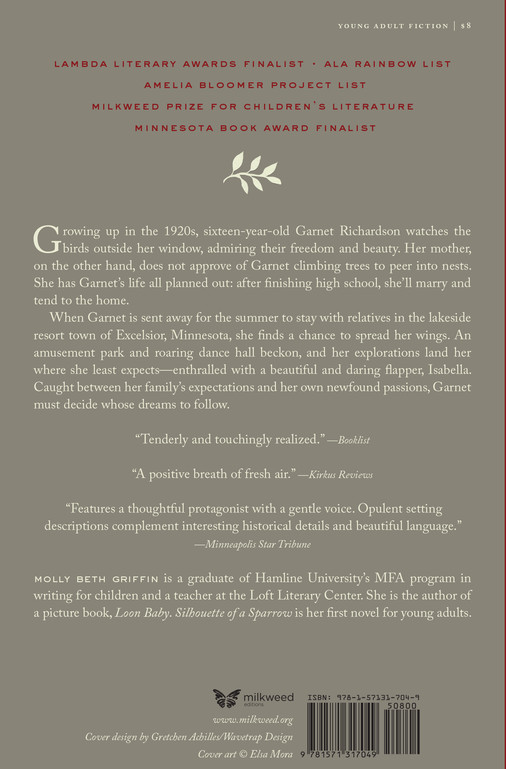barcode: (301, 685, 429, 767)
